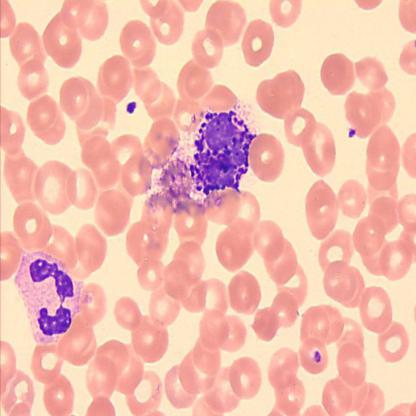Basophil: (188, 105, 258, 202)
